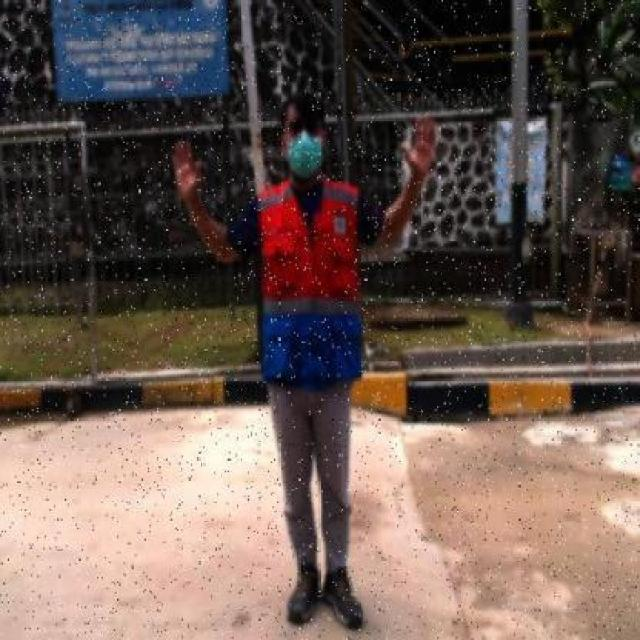Boots: (323, 565, 371, 633), (282, 555, 322, 633)
Mask: (284, 136, 325, 178)
